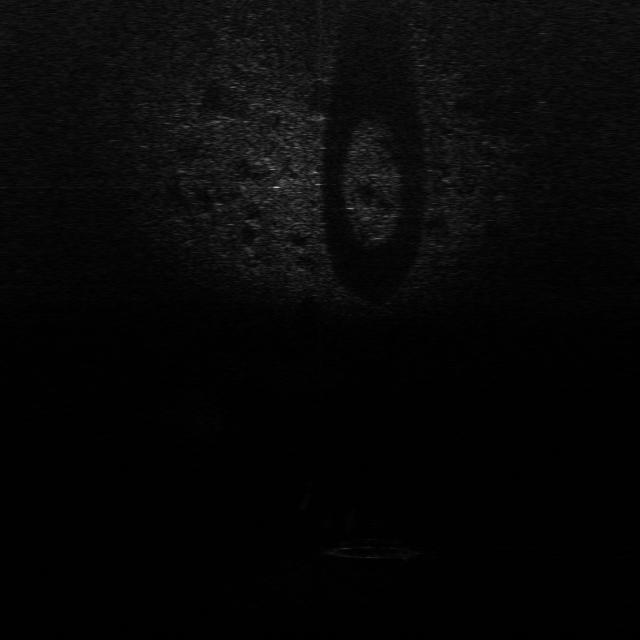tyre: (320, 533, 426, 564)
